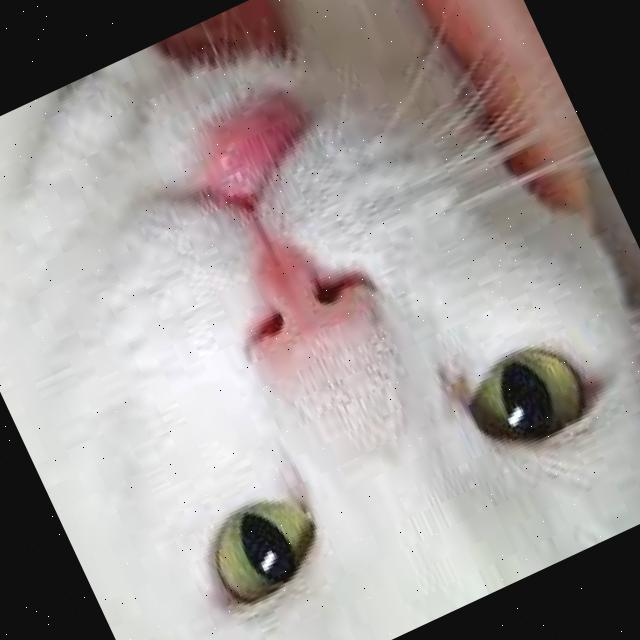cat-lump-and-bump: (206, 109, 300, 195)
